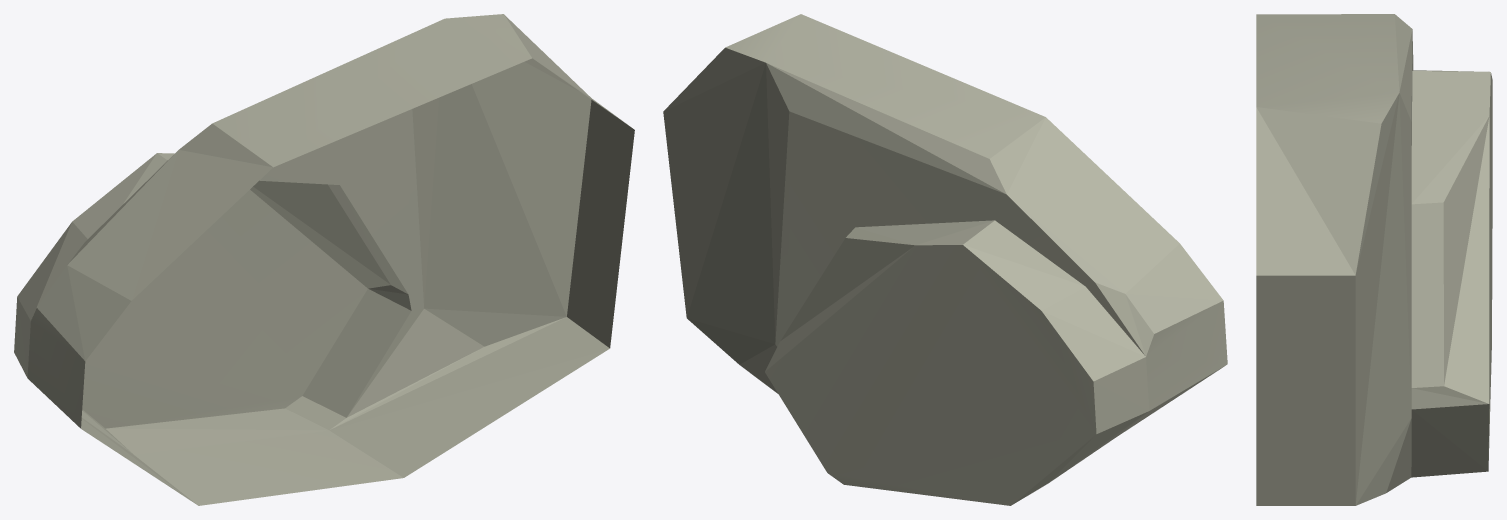
Rendered from Rock 04.FBX.
The picture shows the model from 3 angles, left to right: view 1: azimuth 30°, elevation 25°; view 2: azimuth 150°, elevation 25°; view 3: azimuth 270°, elevation 25°; orthographic projection. The views are drawn at different scales.
Parts seen in each view (by area): view 1: Rock 04; view 2: Rock 04; view 3: Rock 04.
Boxes of the visible parts, x1,y1,x2,y2 form: Rock 04: (14, 14, 634, 505); Rock 04: (663, 14, 1227, 505); Rock 04: (1256, 14, 1492, 505).
Size of the model in its own units: 168 by 113 by 54.13.
